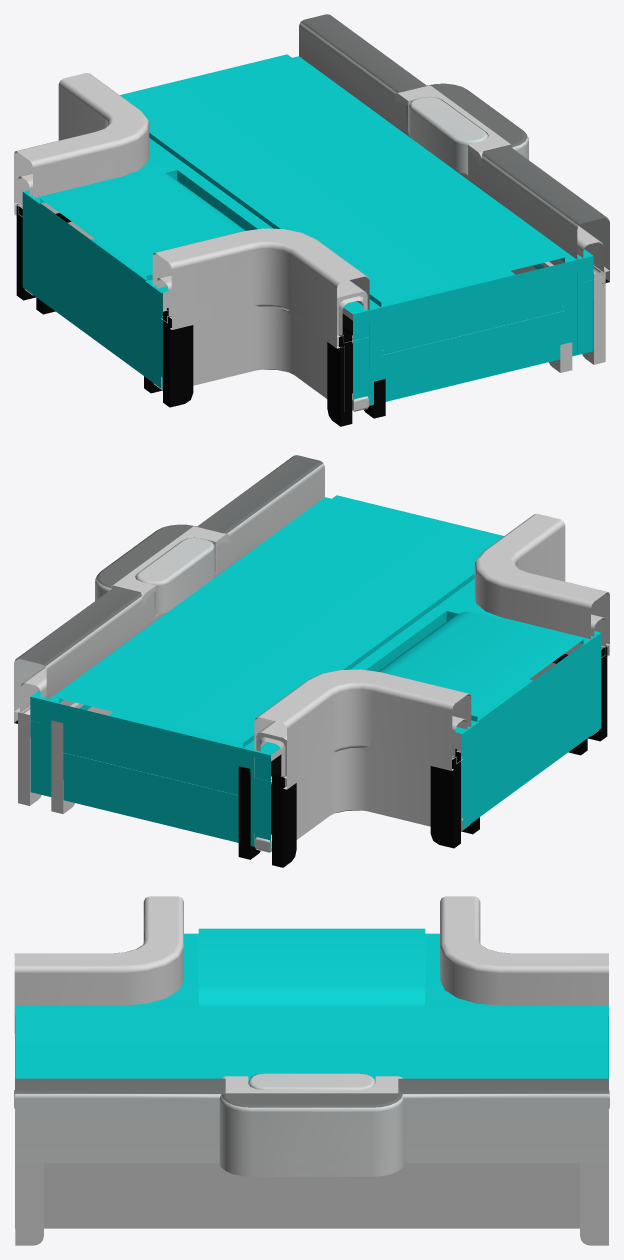
Rendered from Splitter1To2LInternalVariant.gltf.
3 views of the same model, one above another, from view 1: azimuth 30°, elevation 25°; view 2: azimuth 150°, elevation 25°; view 3: azimuth 270°, elevation 25° (orthographic). The views are drawn at different scales.
Visible parts, largest first — view 1: Splitter_1to2Left_Belt_LOD0, Splitter_DefaultBorder_Layer0_LOD0, Splitter_DefaultBorder_Layer1_LOD0, Splitter_1to2Border_Layer1_LOD0, Splitter_DefaultBorder_Layer2_LOD0, Splitter_1to2Border_Layer0_LOD0, Splitter_1to2Border_Layer2_LOD0, Splitter_1to2Right_Pusher_LOD0; view 2: Splitter_1to2Left_Belt_LOD0, Splitter_DefaultBorder_Layer0_LOD0, Splitter_DefaultBorder_Layer1_LOD0, Splitter_1to2Border_Layer1_LOD0, Splitter_DefaultBorder_Layer2_LOD0, Splitter_1to2Border_Layer0_LOD0, Splitter_1to2Border_Layer2_LOD0, Splitter_1to2Right_Pusher_LOD0; view 3: Splitter_1to2Border_Layer0_LOD0, Splitter_1to2Left_Belt_LOD0, Splitter_DefaultBorder_Layer1_LOD0, Splitter_DefaultBorder_Layer0_LOD0, Splitter_1to2Border_Layer2_LOD0, Splitter_1to2Border_Layer1_LOD0, Splitter_1to2Right_Pusher_LOD0, Splitter_DefaultBorder_Layer2_LOD0.
Boxes of the visible parts, box(x1,y1,x2,y2) form: Splitter_1to2Left_Belt_LOD0: box(40, 54, 564, 306); Splitter_DefaultBorder_Layer0_LOD0: box(14, 56, 593, 411); Splitter_DefaultBorder_Layer1_LOD0: box(14, 56, 609, 426); Splitter_1to2Border_Layer1_LOD0: box(299, 14, 609, 272); Splitter_DefaultBorder_Layer2_LOD0: box(18, 56, 593, 354); Splitter_1to2Border_Layer0_LOD0: box(299, 14, 609, 355); Splitter_1to2Border_Layer2_LOD0: box(395, 83, 603, 279); Splitter_1to2Right_Pusher_LOD0: box(408, 97, 488, 173); Splitter_1to2Left_Belt_LOD0: box(59, 495, 583, 747); Splitter_DefaultBorder_Layer0_LOD0: box(30, 497, 609, 850); Splitter_DefaultBorder_Layer1_LOD0: box(14, 498, 609, 867); Splitter_1to2Border_Layer1_LOD0: box(14, 455, 324, 713); Splitter_DefaultBorder_Layer2_LOD0: box(34, 497, 605, 795); Splitter_1to2Border_Layer0_LOD0: box(14, 455, 324, 723); Splitter_1to2Border_Layer2_LOD0: box(20, 524, 229, 714); Splitter_1to2Right_Pusher_LOD0: box(135, 537, 215, 614); Splitter_1to2Border_Layer0_LOD0: box(15, 1078, 608, 1228); Splitter_1to2Left_Belt_LOD0: box(15, 928, 608, 1081); Splitter_DefaultBorder_Layer1_LOD0: box(14, 896, 609, 1245); Splitter_DefaultBorder_Layer0_LOD0: box(15, 896, 608, 1011); Splitter_1to2Border_Layer2_LOD0: box(220, 1076, 403, 1171); Splitter_1to2Border_Layer1_LOD0: box(15, 1078, 608, 1164); Splitter_1to2Right_Pusher_LOD0: box(248, 1073, 375, 1090); Splitter_DefaultBorder_Layer2_LOD0: box(15, 936, 608, 1078).
Size of the model in its own units: 0.8419 by 0.2901 by 1.
